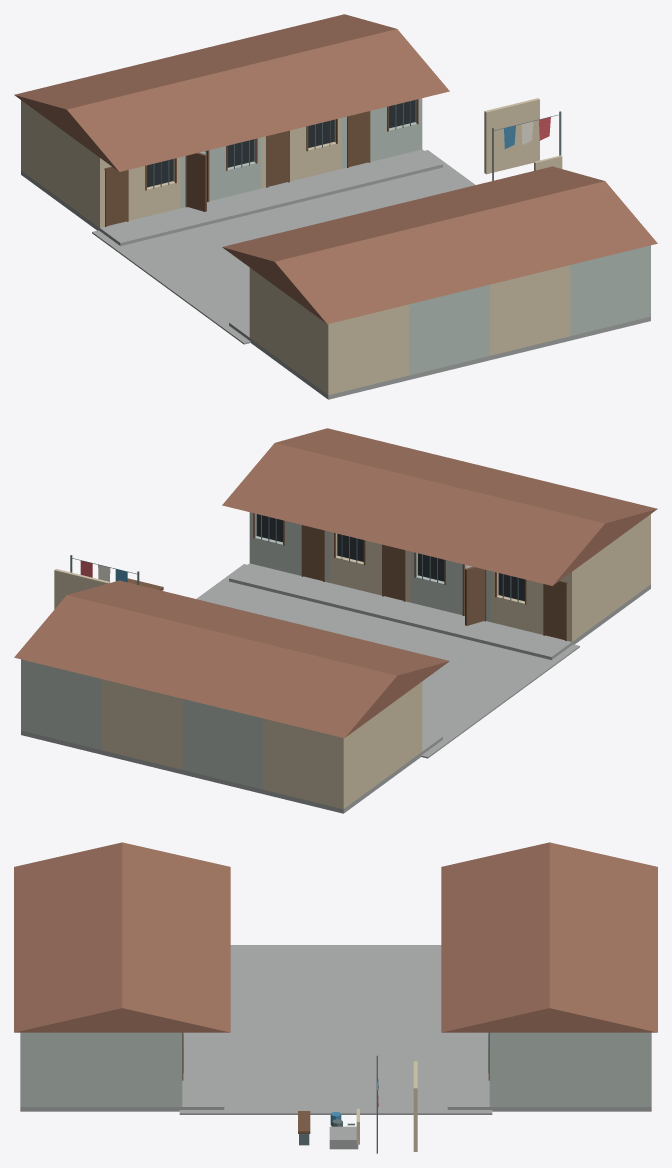
The picture shows the model from 3 angles, top to bottom: view 1: azimuth 30°, elevation 25°; view 2: azimuth 150°, elevation 25°; view 3: azimuth 270°, elevation 25°; orthographic projection. The views are drawn at different scales.
Visible parts, largest first — view 1: baithi_north_pitched_roof, baithi_south_pitched_roof, baithi_courtyard, baithi_south_f00_b00_left_wall, baithi_south_f00_b00_back_wall, baithi_south_f00_b01_back_wall, baithi_south_f00_b02_back_wall, baithi_south_f00_b03_back_wall, baithi_north_f00_b00_left_wall, baithi_service_back, baithi_north_f00_b00_floor, baithi_north_f00_b02_floor (+19 smaller); view 2: baithi_north_pitched_roof, baithi_south_pitched_roof, baithi_courtyard, baithi_north_f00_b00_back_wall, baithi_north_f00_b00_left_wall, baithi_north_f00_b01_back_wall, baithi_north_f00_b03_back_wall, baithi_north_f00_b02_back_wall, baithi_south_f00_b00_left_wall, baithi_south_f00_b00_floor, baithi_south_f00_b02_floor, baithi_south_f00_b03_floor (+19 smaller); view 3: baithi_north_pitched_roof, baithi_south_pitched_roof, baithi_courtyard, baithi_north_f00_b03_right_wall, baithi_south_f00_b03_right_wall, baithi_north_f00_b03_floor, baithi_south_f00_b03_floor, baithi_north_f00_b02_floor, baithi_south_f00_b02_floor, baithi_service_wash_platform.
Part boxes in pixels (x1=…): baithi_north_pitched_roof: x1=14, y1=14, x2=449, y2=171; baithi_south_pitched_roof: x1=222, y1=166, x2=657, y2=324; baithi_courtyard: x1=92, y1=150, x2=475, y2=344; baithi_south_f00_b00_left_wall: x1=250, y1=268, x2=332, y2=394; baithi_south_f00_b00_back_wall: x1=326, y1=304, x2=408, y2=395; baithi_south_f00_b01_back_wall: x1=409, y1=285, x2=489, y2=375; baithi_south_f00_b02_back_wall: x1=489, y1=266, x2=570, y2=355; baithi_south_f00_b03_back_wall: x1=570, y1=245, x2=650, y2=335; baithi_north_f00_b00_left_wall: x1=21, y1=100, x2=98, y2=226; baithi_service_back: x1=484, y1=98, x2=539, y2=174; baithi_north_f00_b00_floor: x1=21, y1=170, x2=200, y2=245; baithi_north_f00_b02_floor: x1=261, y1=169, x2=362, y2=206; baithi_north_pitched_roof: x1=14, y1=580, x2=449, y2=738; baithi_south_pitched_roof: x1=222, y1=428, x2=657, y2=585; baithi_courtyard: x1=196, y1=564, x2=579, y2=758; baithi_north_f00_b00_back_wall: x1=263, y1=718, x2=345, y2=809; baithi_north_f00_b00_left_wall: x1=339, y1=682, x2=421, y2=808; baithi_north_f00_b01_back_wall: x1=182, y1=699, x2=262, y2=789; baithi_north_f00_b03_back_wall: x1=21, y1=659, x2=101, y2=749; baithi_north_f00_b02_back_wall: x1=101, y1=680, x2=182, y2=769; baithi_south_f00_b00_left_wall: x1=573, y1=514, x2=650, y2=640; baithi_south_f00_b00_floor: x1=471, y1=584, x2=650, y2=659; baithi_south_f00_b02_floor: x1=309, y1=583, x2=410, y2=620; baithi_south_f00_b03_floor: x1=229, y1=563, x2=329, y2=600; baithi_north_pitched_roof: x1=441, y1=842, x2=657, y2=1032; baithi_south_pitched_roof: x1=14, y1=842, x2=230, y2=1032; baithi_courtyard: x1=179, y1=945, x2=492, y2=1114; baithi_north_f00_b03_right_wall: x1=492, y1=1032, x2=651, y2=1106; baithi_south_f00_b03_right_wall: x1=20, y1=1032, x2=179, y2=1106; baithi_north_f00_b03_floor: x1=447, y1=1066, x2=651, y2=1111; baithi_south_f00_b03_floor: x1=20, y1=1066, x2=224, y2=1111; baithi_north_f00_b02_floor: x1=447, y1=1032, x2=488, y2=1066; baithi_south_f00_b02_floor: x1=183, y1=1032, x2=224, y2=1066; baithi_service_wash_platform: x1=329, y1=1126, x2=358, y2=1149.
Bounding box in the file's own units: 15.37 × 3.65 × 20.2.
